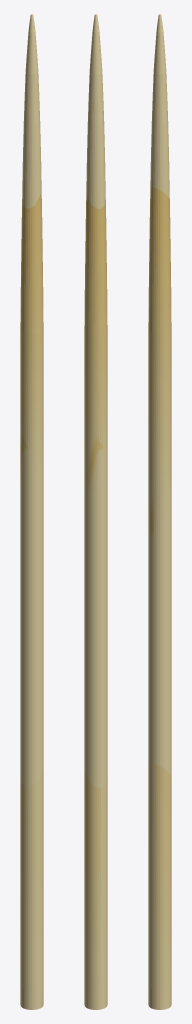
Rendered from skewer.fbx.
3 views of the same model, side by side, from view 1: azimuth 90°, elevation 25°; view 2: azimuth 150°, elevation 25°; view 3: azimuth 270°, elevation 25° (orthographic).
Parts seen in each view (by area): view 1: Skewer; view 2: Skewer; view 3: Skewer.
Boxes of the visible parts, x1=… form: Skewer: x1=20, y1=14, x2=43, y2=1009; Skewer: x1=84, y1=14, x2=107, y2=1009; Skewer: x1=148, y1=14, x2=171, y2=1009.
Size of the model in its own units: 4 by 189 by 4.
Materials: 1 (1 with a texture image).
